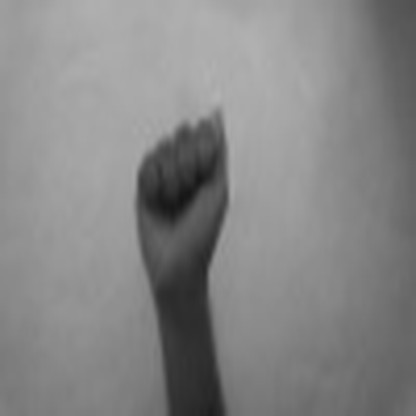a: (124, 88, 243, 278)
